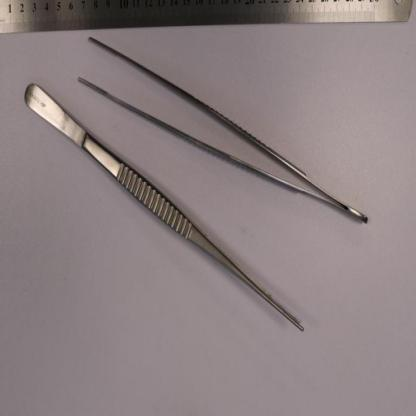DeBakey Dissector: (26, 82, 306, 331), (77, 37, 369, 224)
